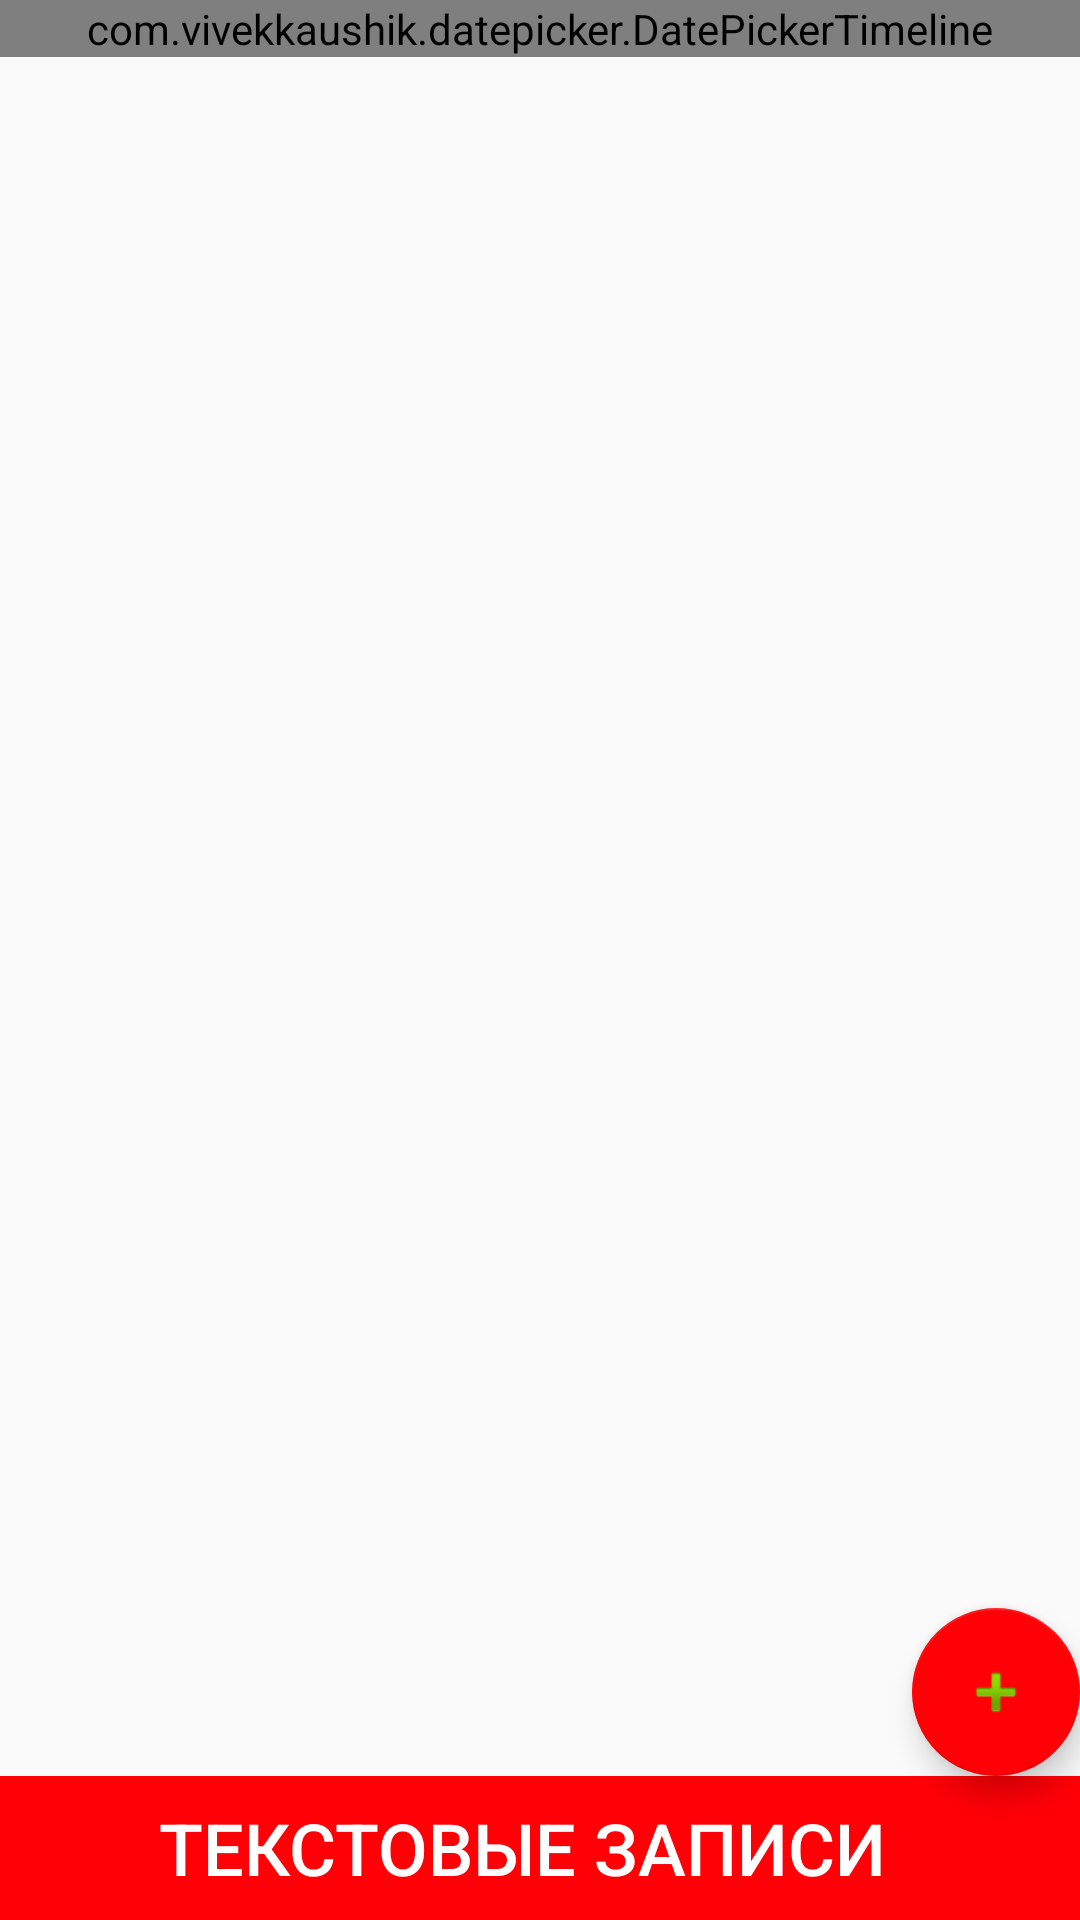

Screen size 1080×1920. Icon name, then its center in pixels as (x=x, y=y):
add: (x=996, y=1692)
